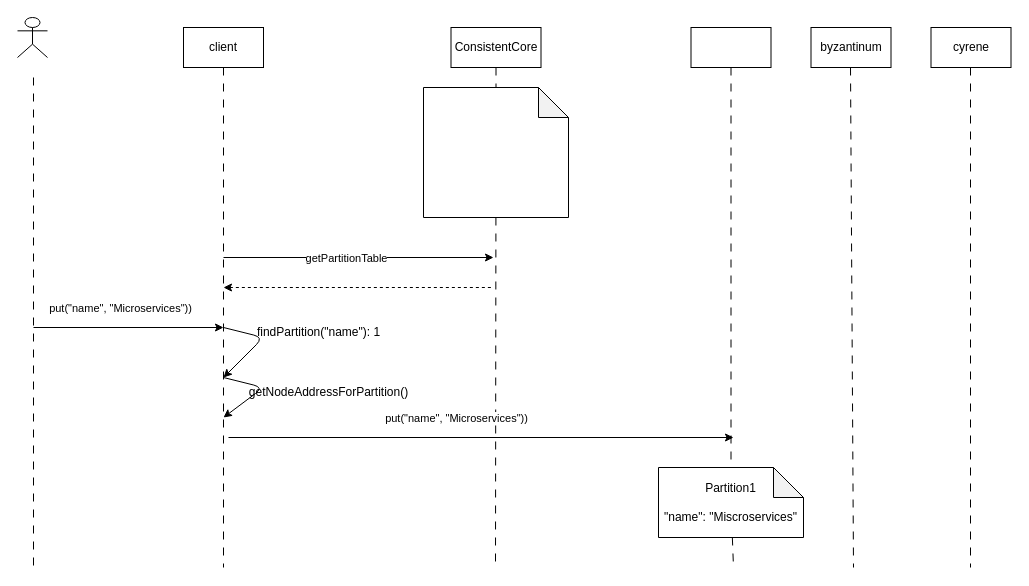
Image size: 1029x586. Some labels were removed from this diagram. The shapes that lost their labels are listed below. From the top down, each one's centre as x and y in pixels, then its label:
(x=32, y=37): user
(x=730, y=47): athens
(x=495, y=152): PartitionTable athens : P1, P4, P7 byzantinum : P2, P5, P8 cyrene : P3, P6, P9
